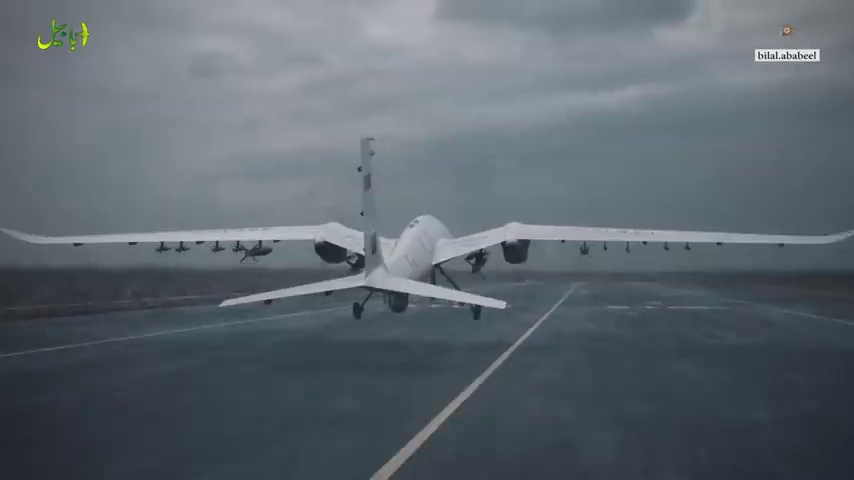military drone: (0, 137, 854, 320)
